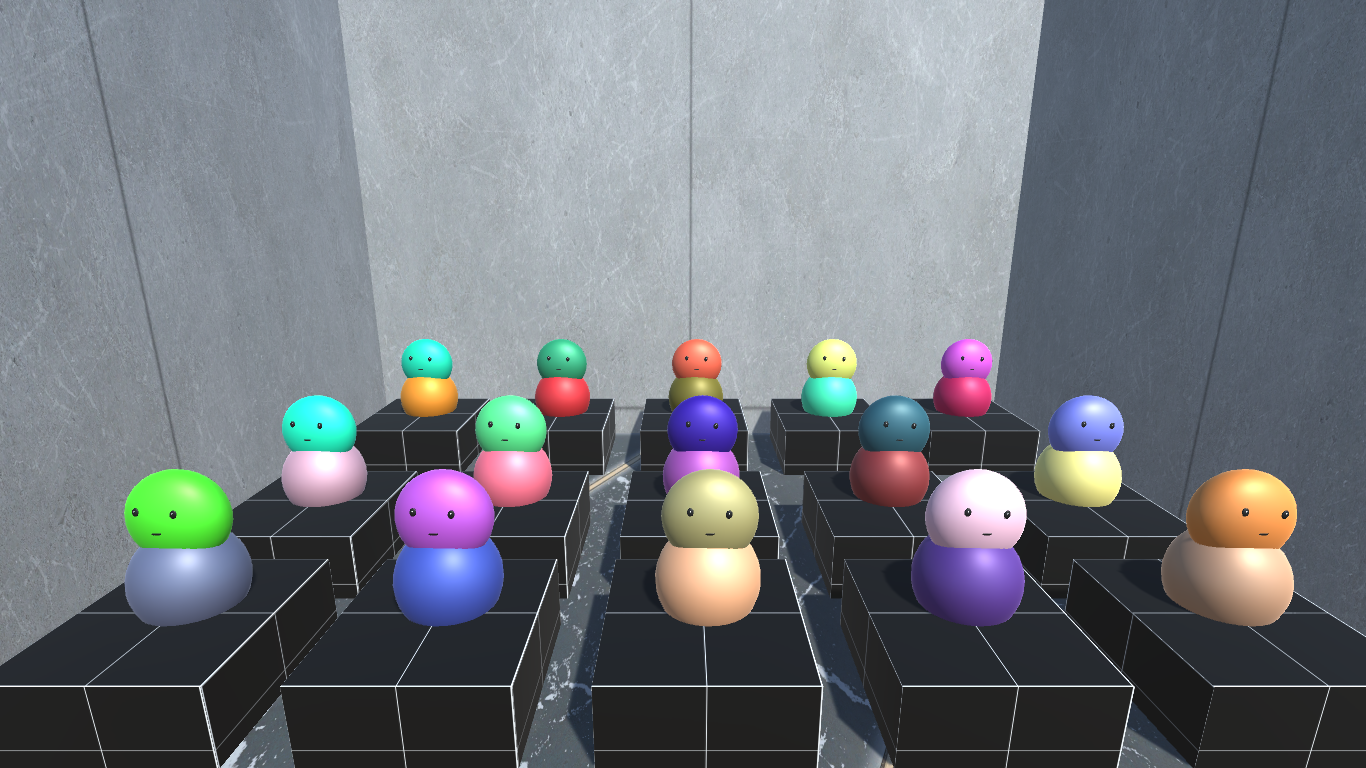blob_normal: (921, 463, 1037, 559), (1184, 463, 1301, 554), (388, 465, 501, 552), (661, 465, 768, 556), (121, 463, 226, 552), (466, 390, 559, 459), (1044, 395, 1130, 455), (273, 392, 355, 450), (666, 390, 741, 450), (857, 394, 930, 454), (399, 335, 457, 381), (533, 340, 593, 383), (939, 340, 997, 380), (673, 334, 722, 380), (805, 338, 859, 377)
